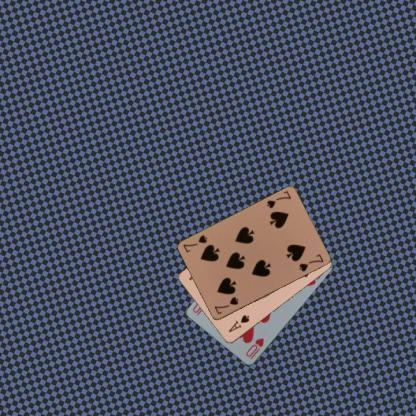10h: (243, 336, 265, 360)
7s: (211, 294, 240, 316), (264, 188, 292, 210)
As: (226, 313, 251, 334)
